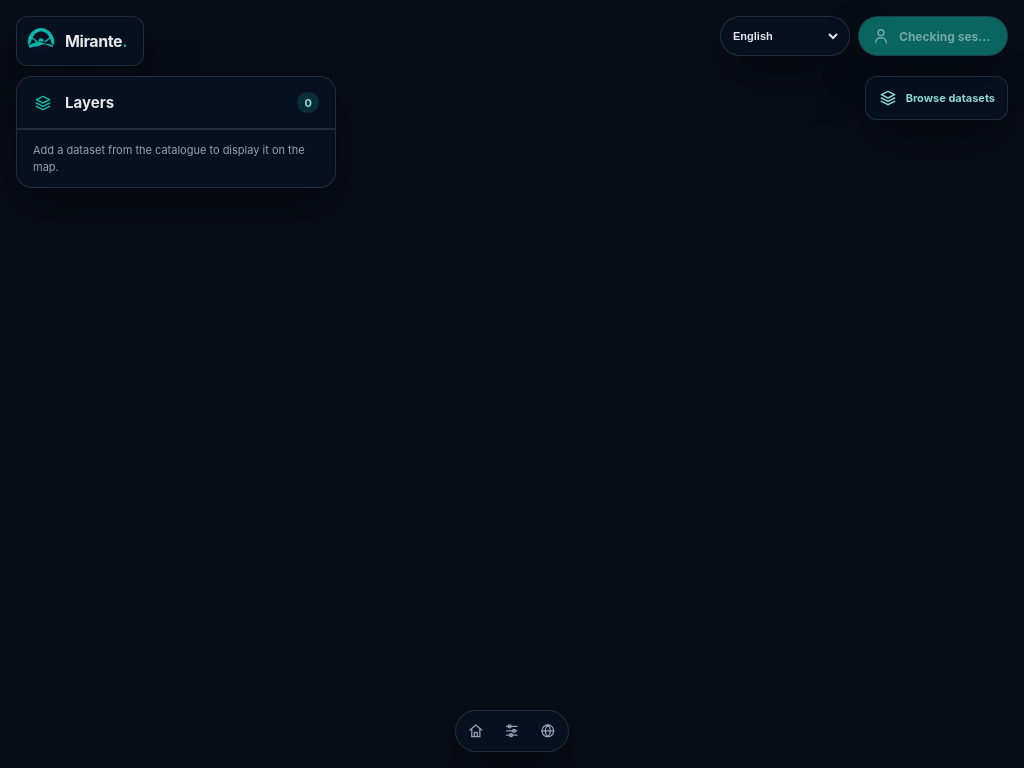
Test case: App › changes and persists the interface locale at runtime
This screenshot has width=1024, height=768.
Step 1. Select "Português (Brasil)" in the dropdown named "Language" → (785, 36), box [729,29,841,43]
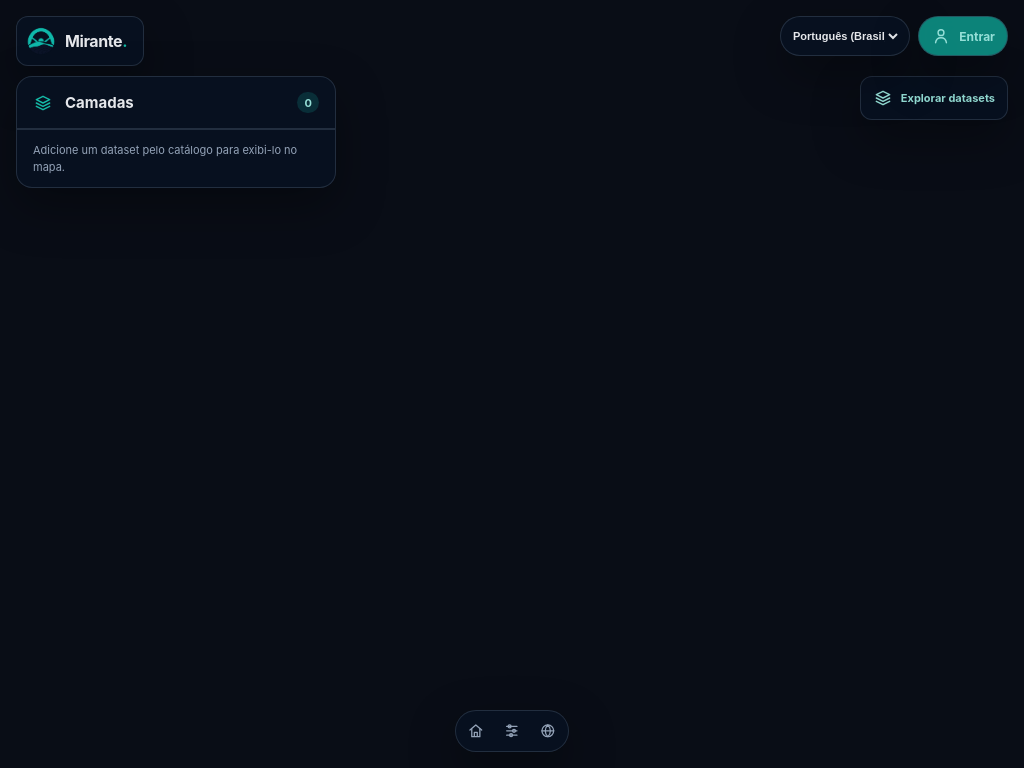
Result: the heading "Camadas" is shown at [65,93,134,112]
